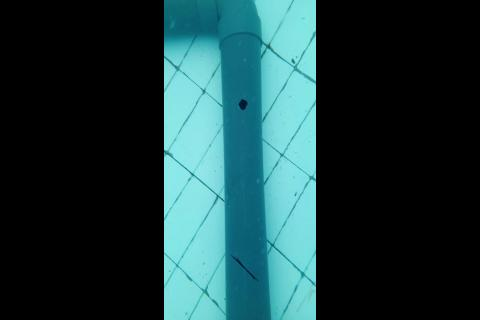kebocoran: (237, 96, 249, 111)
keretakan: (229, 252, 260, 284)
